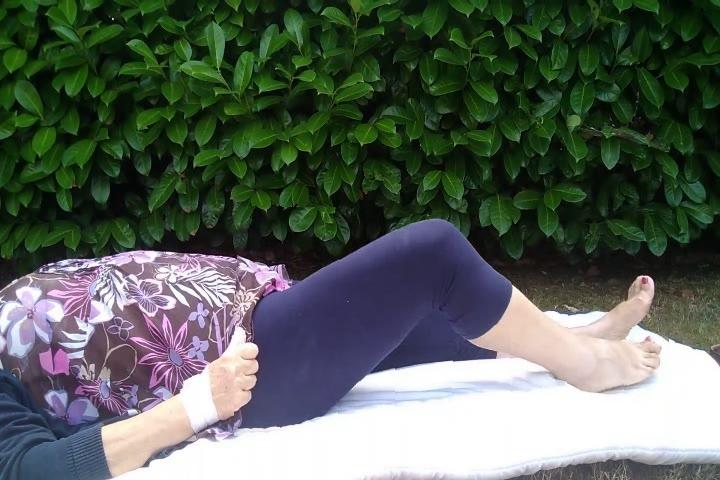lowerbody: (237, 209, 671, 443)
